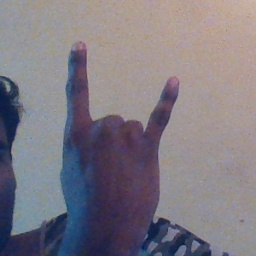V: (54, 36, 184, 229)
